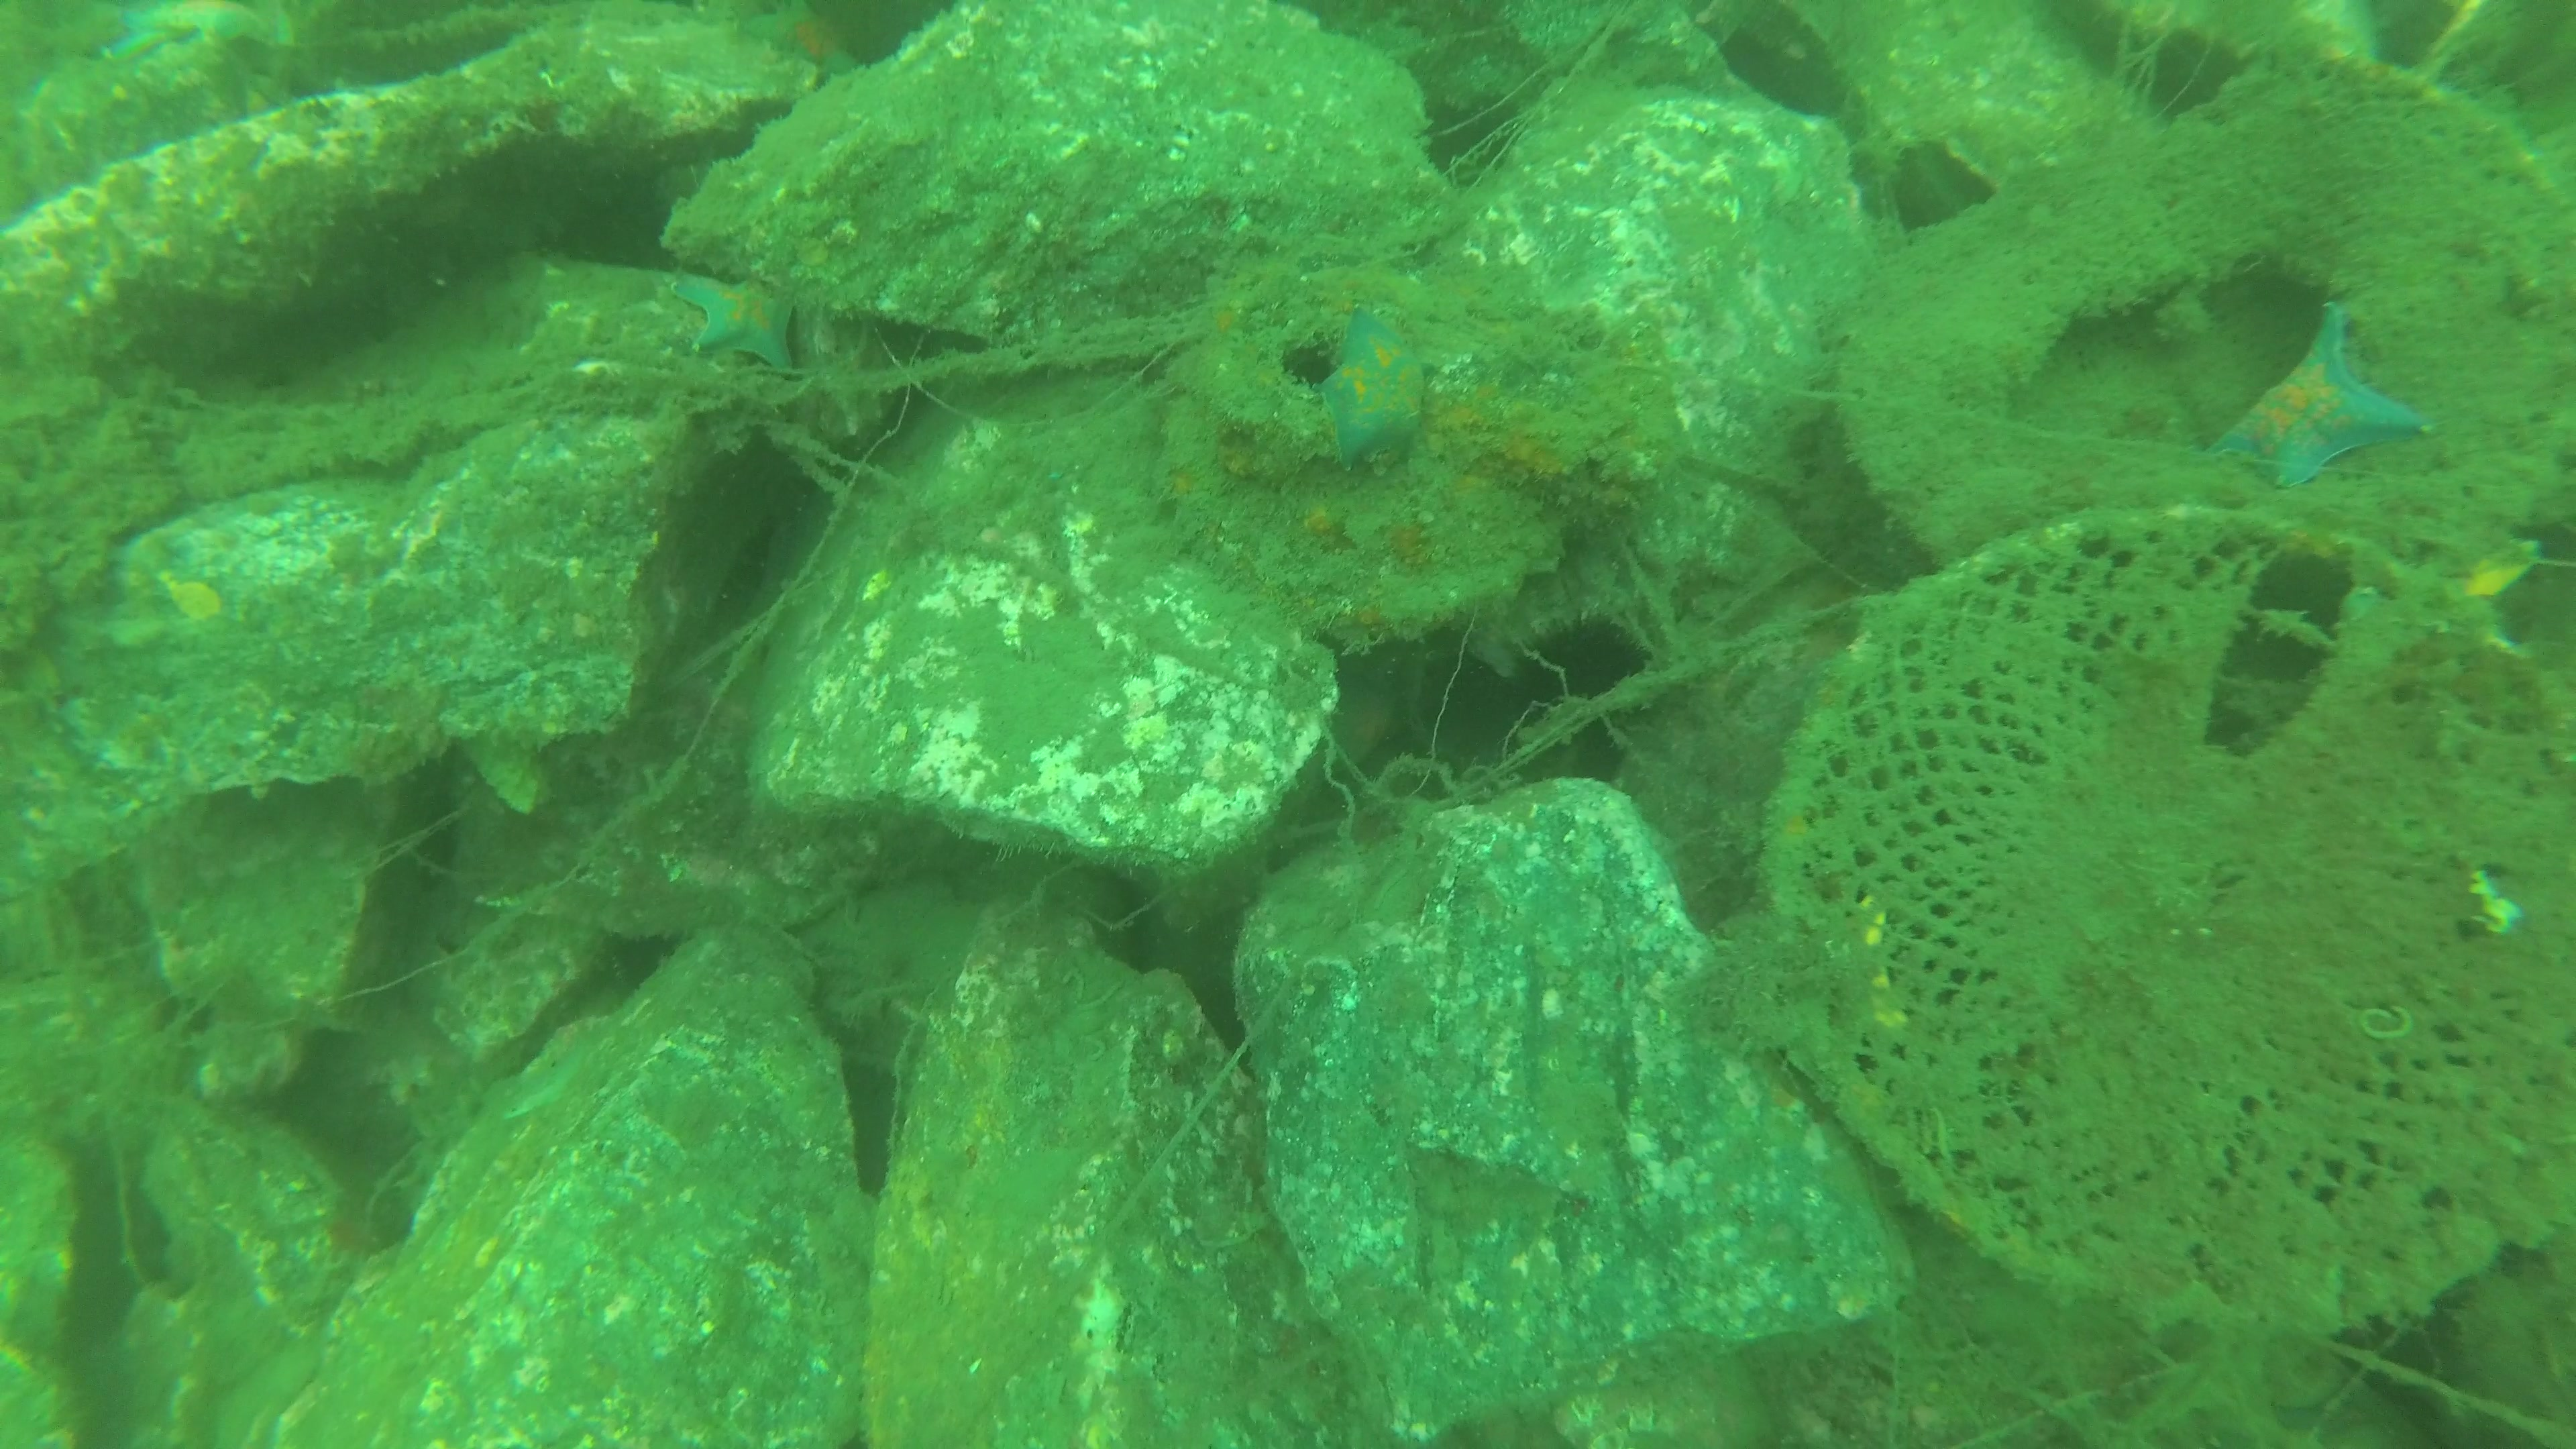starfish: (2204, 297, 2427, 485), (1323, 311, 1426, 476), (663, 265, 801, 372), (94, 0, 306, 58), (741, 2, 867, 85)
